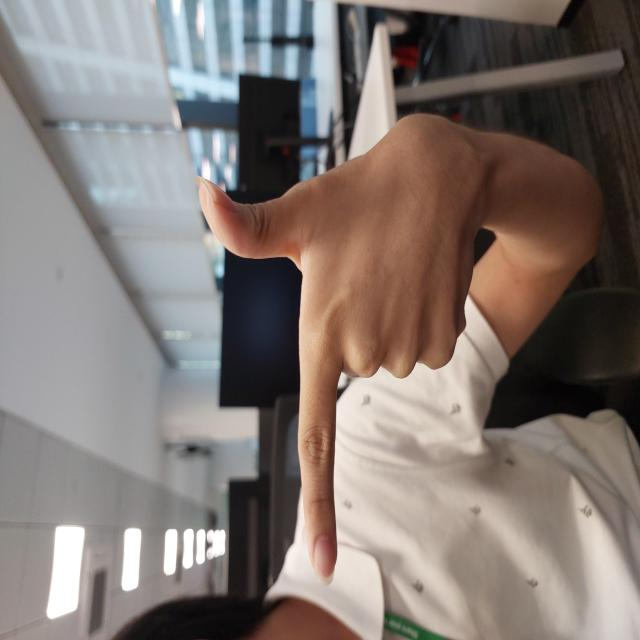G: (58, 195, 524, 479)
